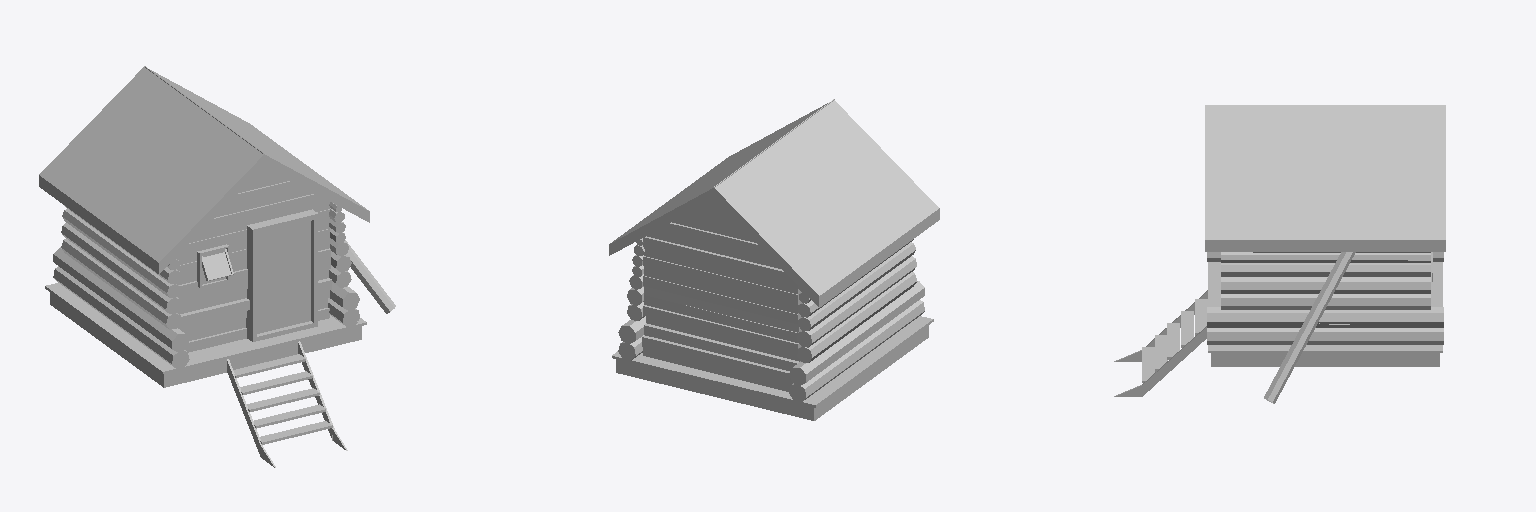
The model's file is Shed04.obj.
The picture shows the model from 3 angles: view 1: azimuth 30°, elevation 25°; view 2: azimuth 150°, elevation 25°; view 3: azimuth 270°, elevation 25°; orthographic projection.
Parts seen in each view (by area): view 1: pCube48; view 2: pCube48; view 3: pCube48.
Part boxes in pixels (x1,y1,x2,y2): pCube48: (39,66,395,467); pCube48: (609,99,939,420); pCube48: (1114,105,1445,403).
Size of the model in its own units: 23.9 by 23.2 by 25.54.